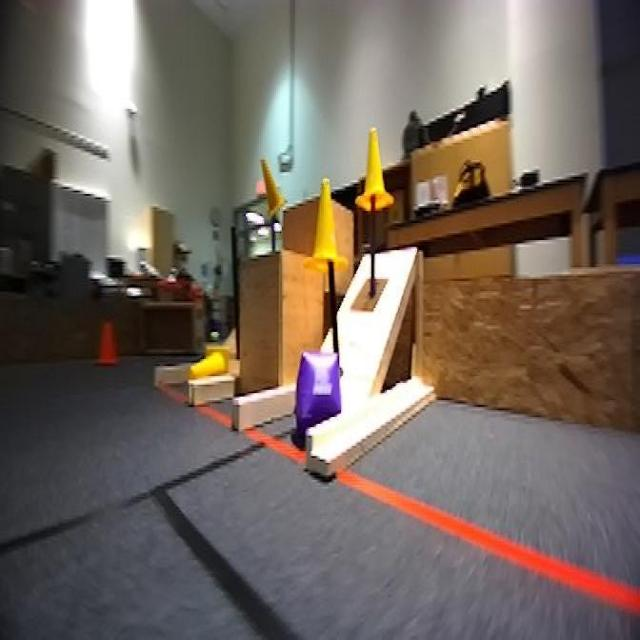frc_cone: (304, 177, 348, 277), (356, 128, 394, 212), (190, 341, 234, 386), (261, 155, 288, 219)
frc_cube: (290, 352, 342, 436)
